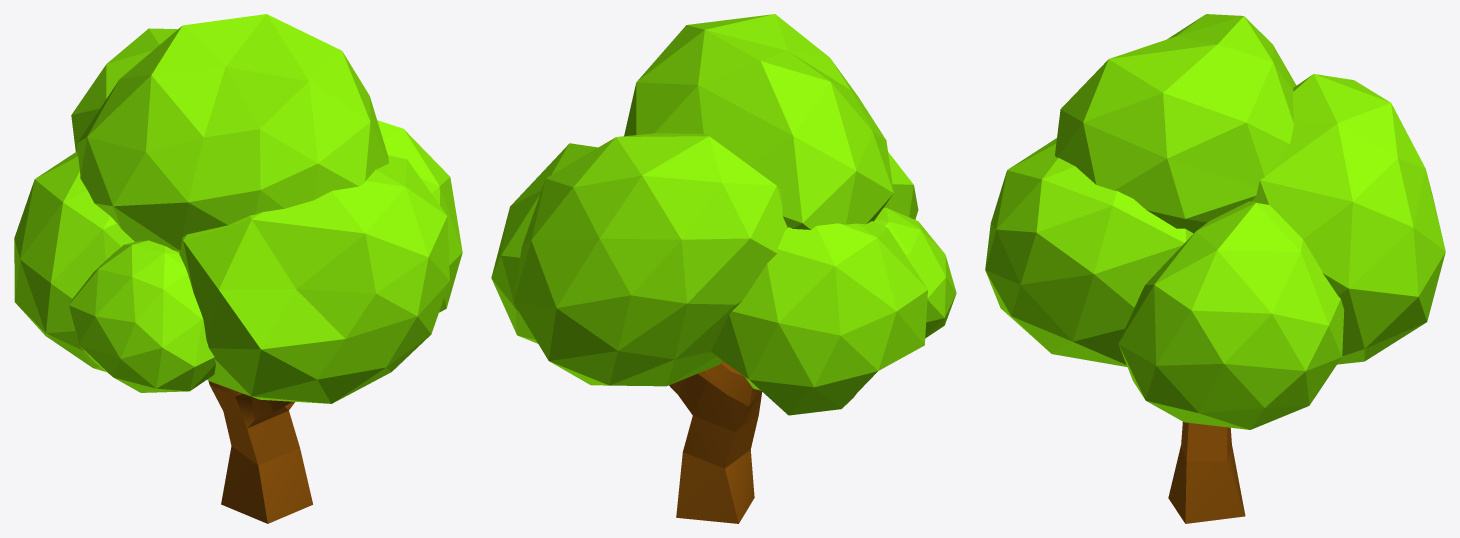
Rendered from Tree9.dae.
The picture shows the model from 3 angles, left to right: view 1: azimuth 30°, elevation 25°; view 2: azimuth 150°, elevation 25°; view 3: azimuth 270°, elevation 25°; orthographic projection. The views are drawn at different scales.
Parts seen in each view (by area): view 1: Tree9; view 2: Tree9; view 3: Tree9.
Boxes of the visible parts, x1,y1,x2,y2 form: Tree9: [14, 14, 462, 523]; Tree9: [491, 14, 956, 523]; Tree9: [985, 14, 1445, 523].
Bounding box in the file's own units: 4.42 × 5.07 × 4.55.
